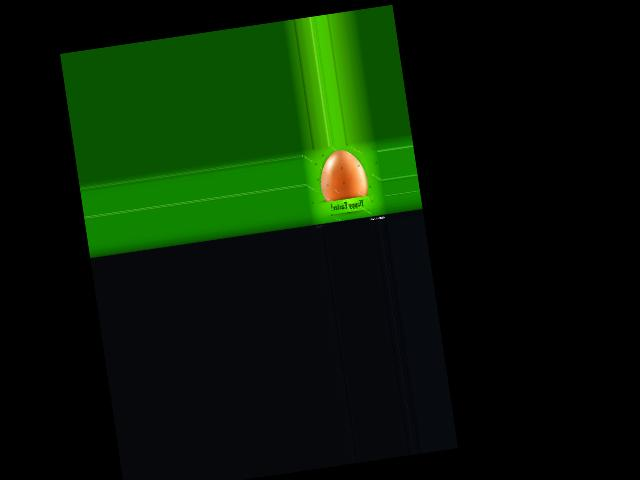egg: (315, 146, 369, 202)
